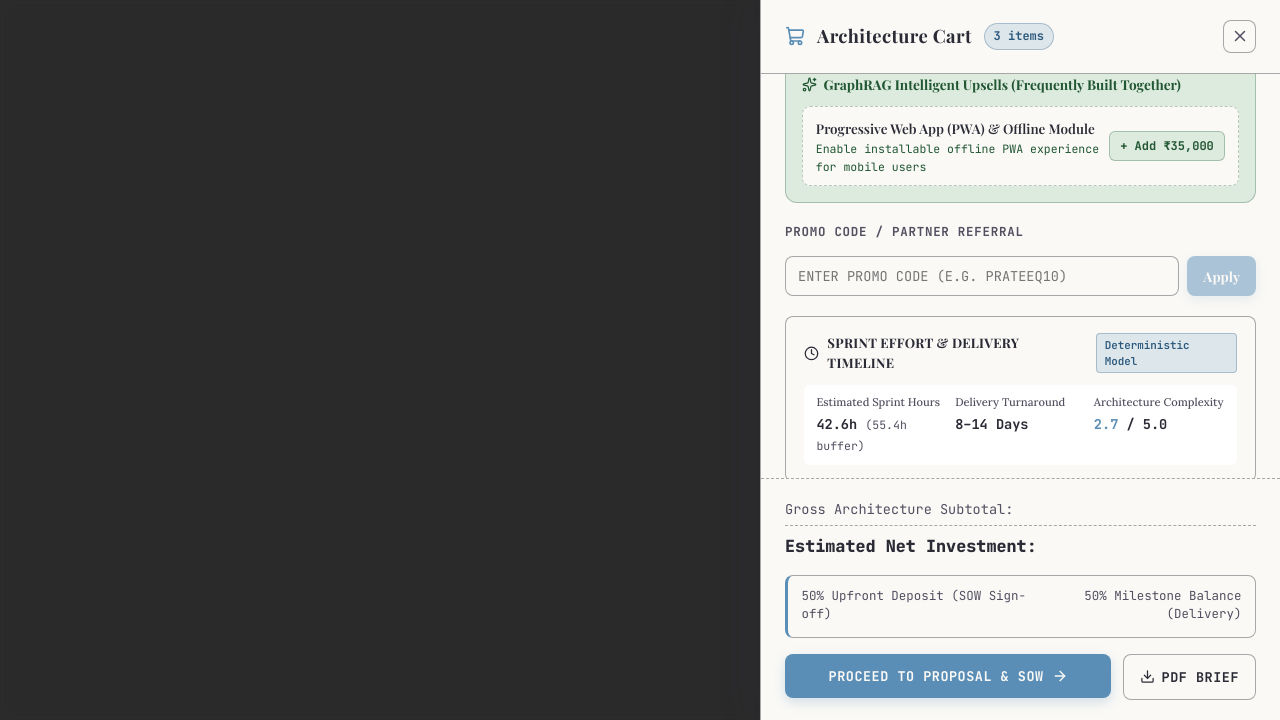
ArchitectureCartDrawer › renders promo code validation error with role="alert"
(page scrolled)
Type "BADCODE" into the field named "Promo code or partner referral".
click(982, 276); type("BADCODE")  # box 785,256 -> 1179,296
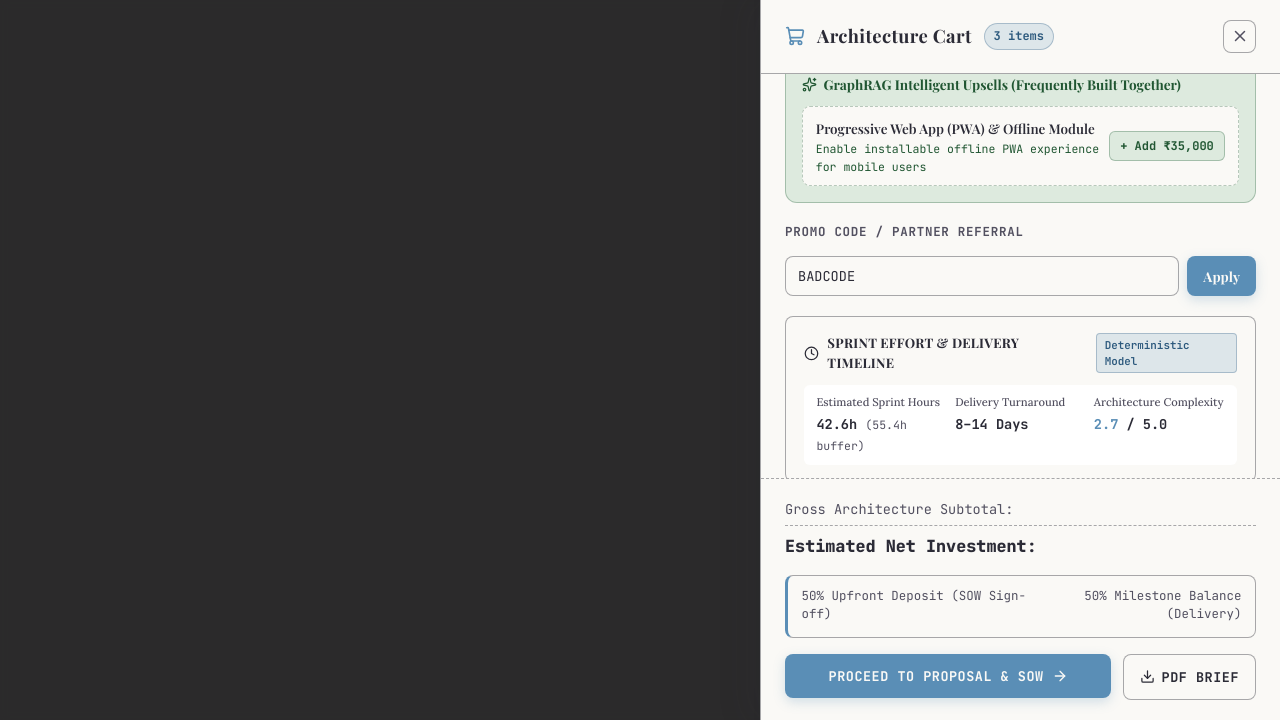
Click the button "Apply".
click(1222, 276)  # box 1187,256 -> 1256,296
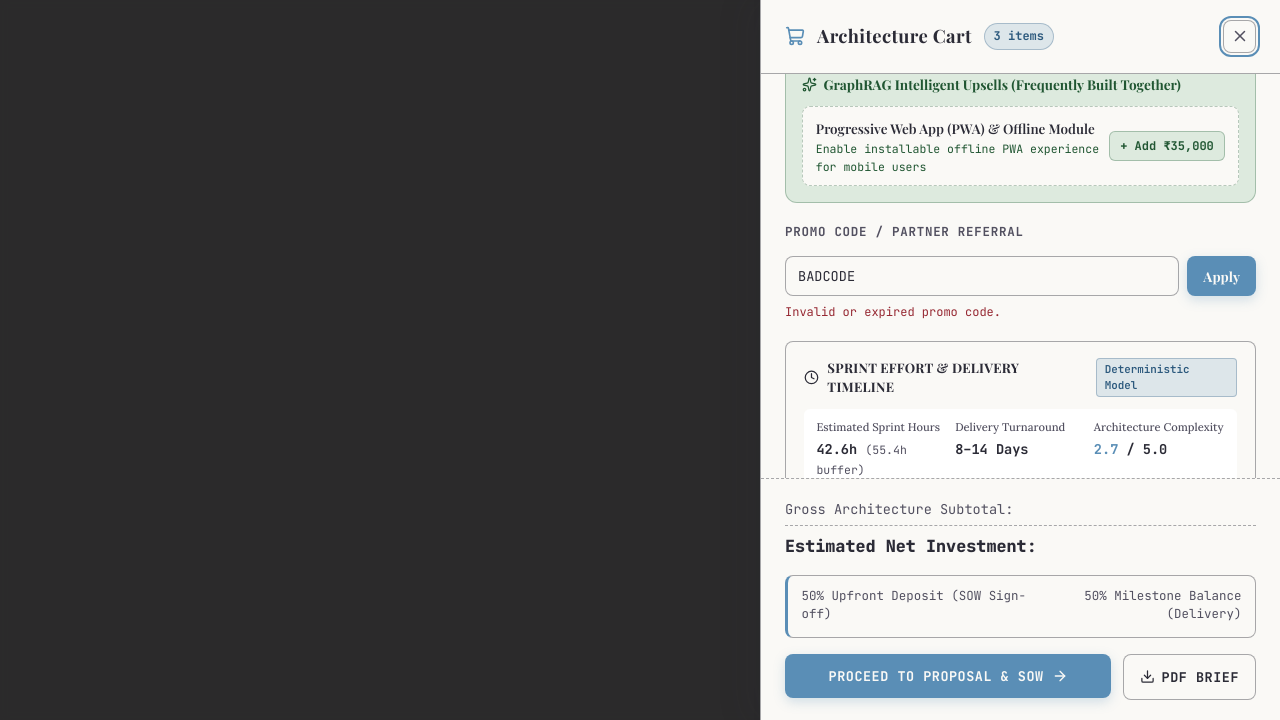
Expected: the message shows "Invalid or expired promo code", 785,304 -> 1001,320
